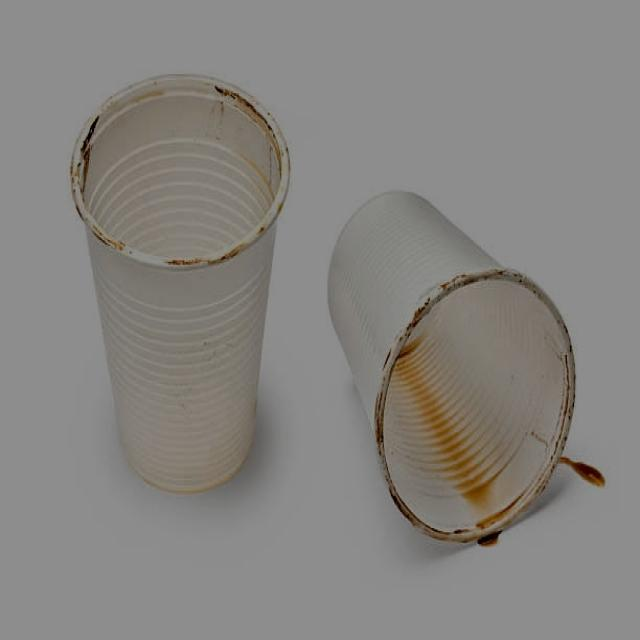plastic: (60, 56, 314, 525), (319, 185, 603, 571)
